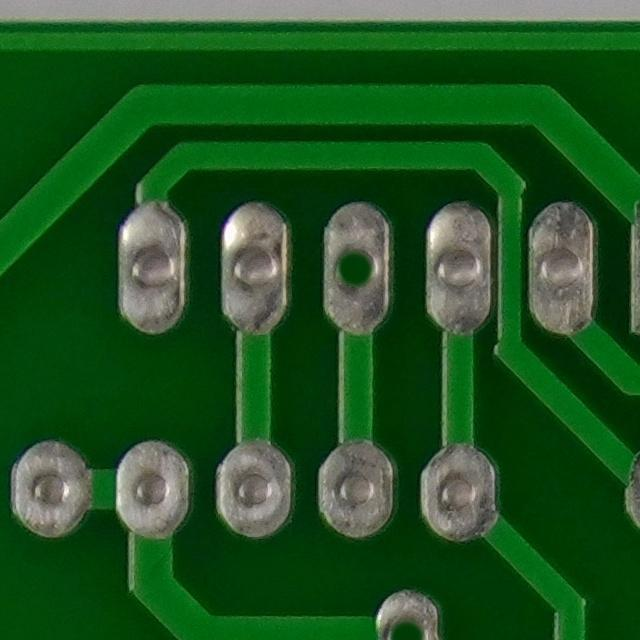missing_hole: (317, 224, 397, 313), (372, 593, 443, 640)
